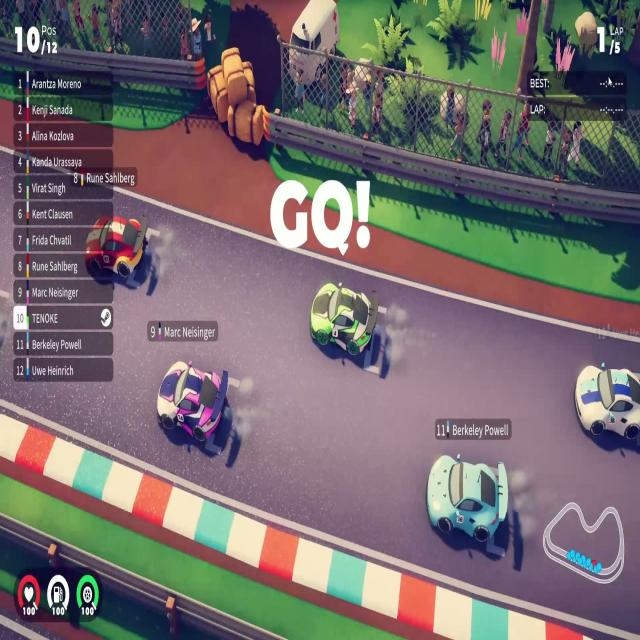car: (425, 452, 509, 545), (156, 359, 229, 444), (309, 280, 379, 358), (574, 362, 639, 442), (84, 213, 149, 280)
